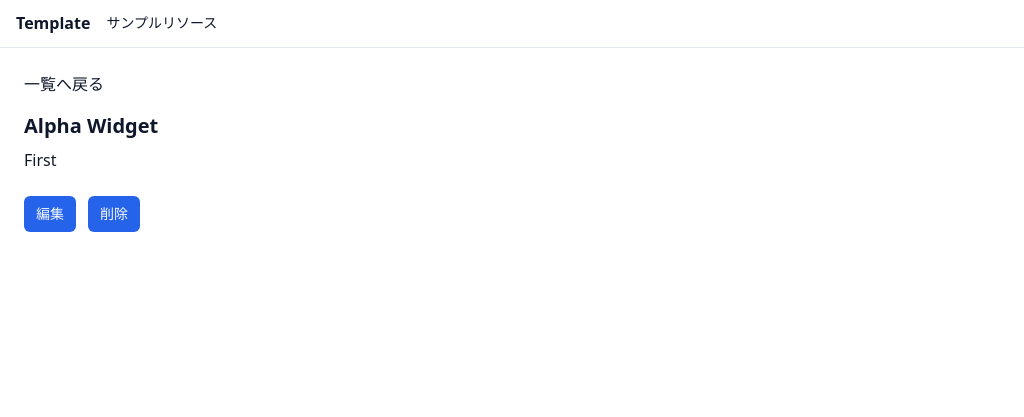
Scenario: sample resource create and edit › updates an item and shows the new contents on the detail screen
The image size is (1024, 417).
Click the link "編集" at [50, 214], box [24, 196, 76, 232]
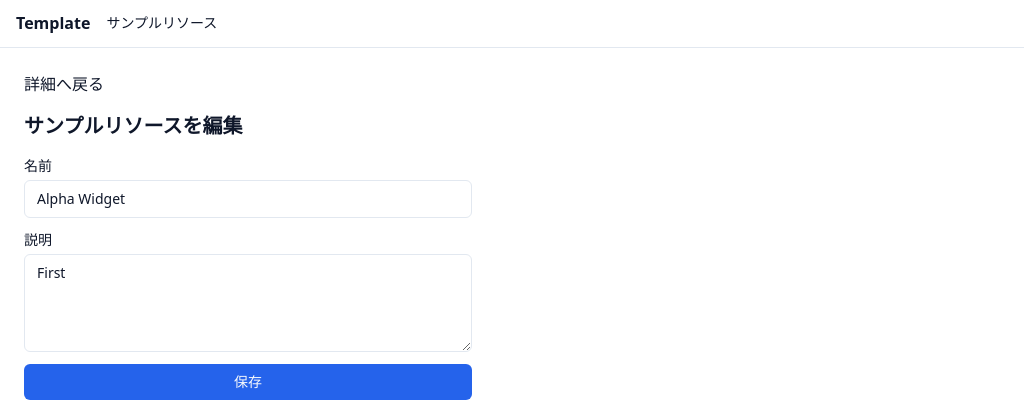
Replace the text in the field labelled "名前" with "Renamed Widget" at [248, 199], box [24, 180, 472, 218]
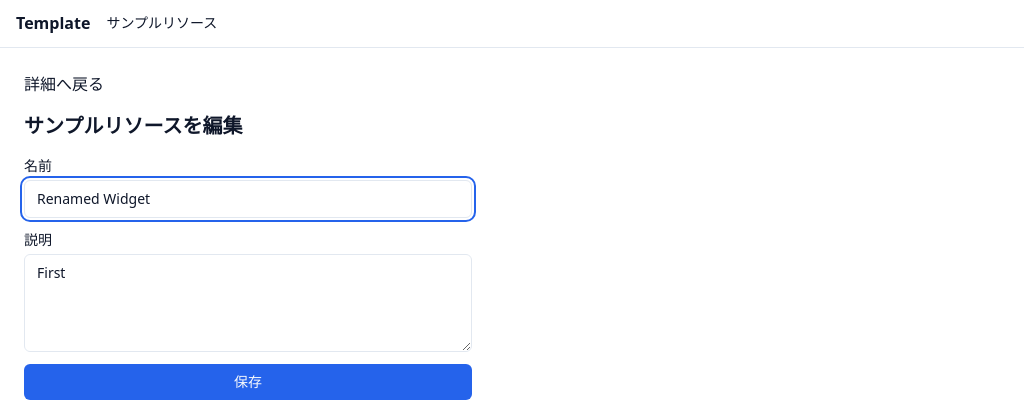
Click the button "保存" at [248, 382], box [24, 364, 472, 400]
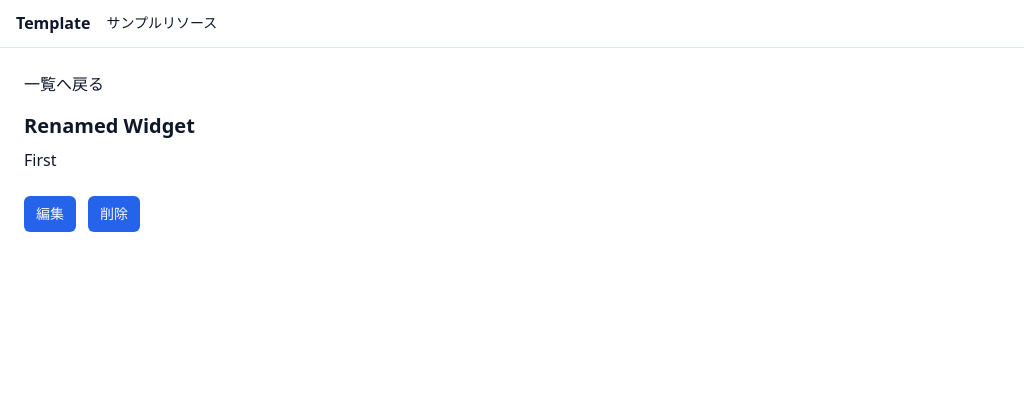
expect the heading "Renamed Widget" is shown: met, box [24, 112, 195, 139]
